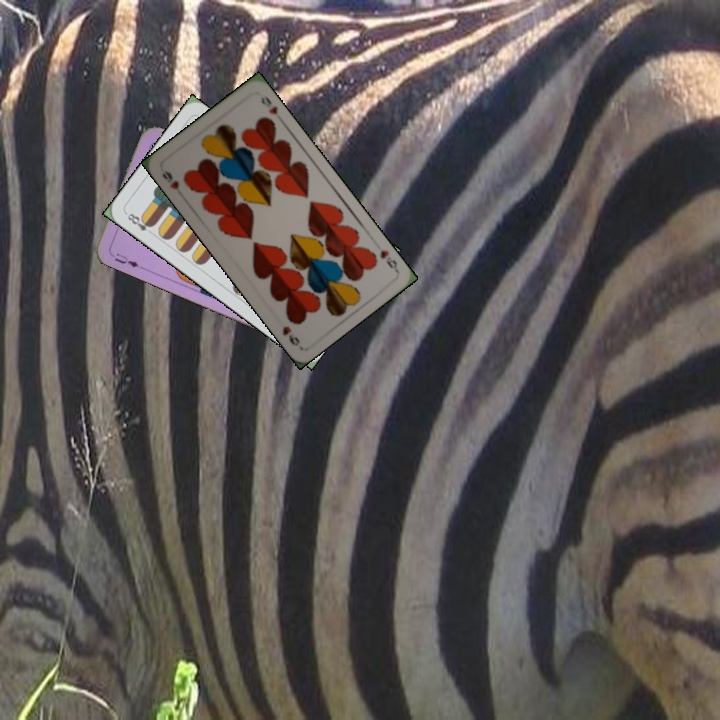E8: (122, 209, 156, 238)
EU: (106, 247, 142, 270)
H9: (376, 246, 400, 274), (158, 166, 182, 192)
